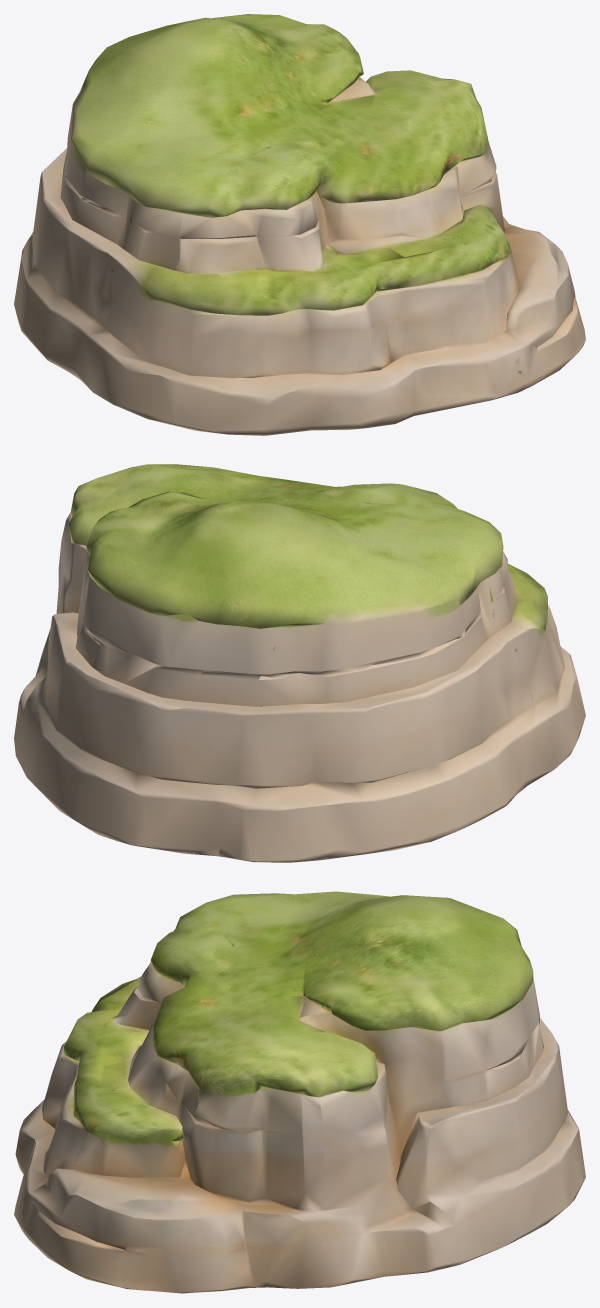
The model's file is toy-hill-desktop.glb.
The picture shows the model from 3 angles, top to bottom: view 1: azimuth 30°, elevation 25°; view 2: azimuth 150°, elevation 25°; view 3: azimuth 270°, elevation 25°; orthographic projection. The views are drawn at different scales.
Parts seen in each view (by area): view 1: model; view 2: model; view 3: model.
Part boxes in pixels (left/top/right/bottom): model: left=14, top=14, right=585, bottom=435; model: left=14, top=464, right=585, bottom=862; model: left=14, top=891, right=585, bottom=1293.
Size of the model in its own units: 1.76 by 0.9478 by 1.9.
Materials: 1 (1 with a texture image).
